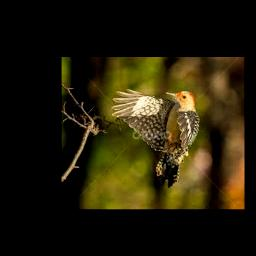Woodpecker: (112, 89, 200, 187)
